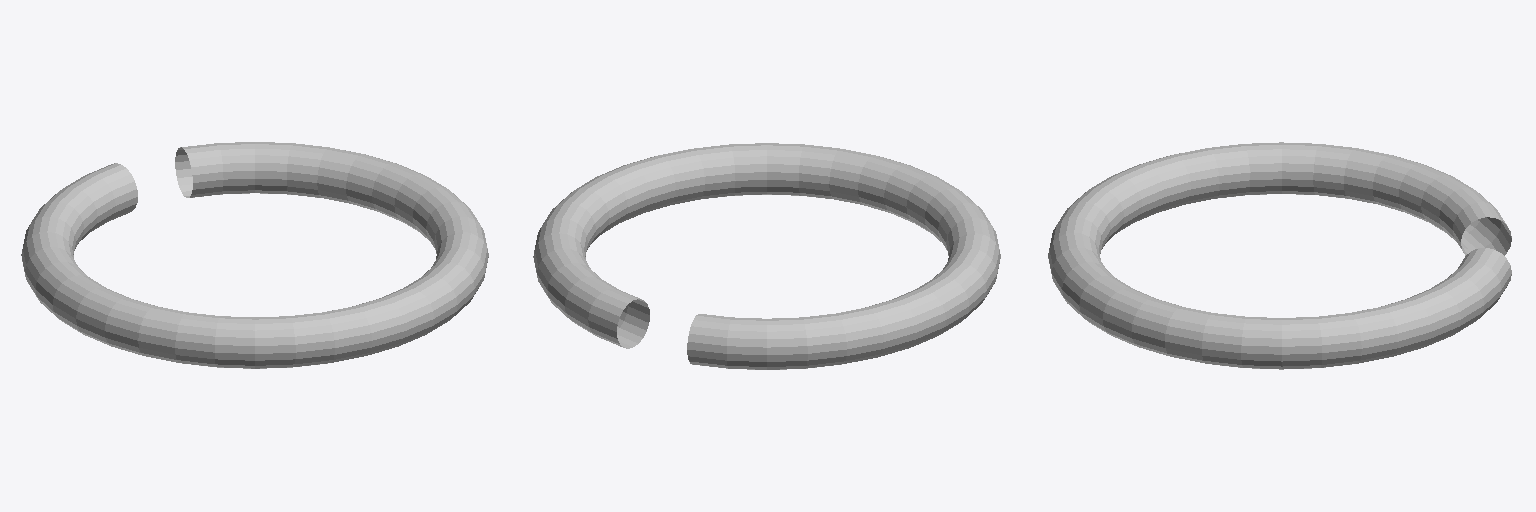
The model's file is outer_ring.obj.
3 views of the same model, side by side, from view 1: azimuth 30°, elevation 25°; view 2: azimuth 150°, elevation 25°; view 3: azimuth 270°, elevation 25° (orthographic).
Parts seen in each view (by area): view 1: outer; view 2: outer; view 3: outer.
Boxes of the visible parts, x1=… form: outer: x1=21, y1=142, x2=488, y2=368; outer: x1=533, y1=143, x2=1000, y2=369; outer: x1=1048, y1=142, x2=1511, y2=369.
Size of the model in its own units: 9 by 1 by 8.93.